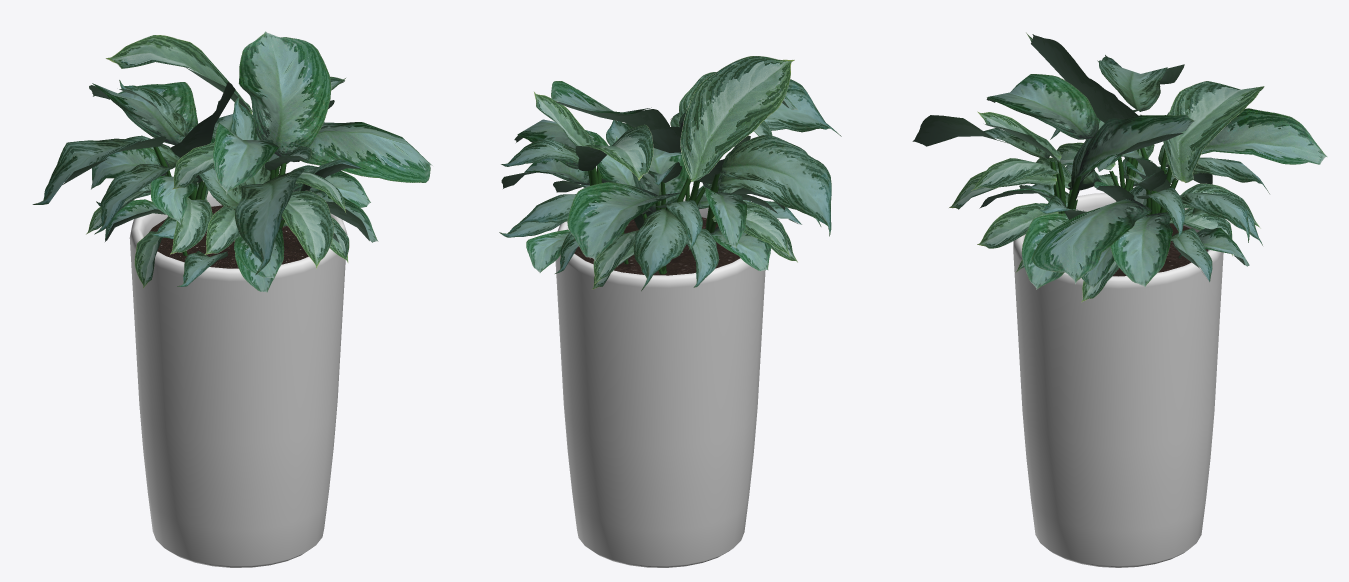
The picture shows the model from 3 angles, left to right: view 1: azimuth 30°, elevation 25°; view 2: azimuth 150°, elevation 25°; view 3: azimuth 270°, elevation 25°; orthographic projection. The views are drawn at different scales.
Parts seen in each view (by area): view 1: potTall_aglaonema; view 2: potTall_aglaonema; view 3: potTall_aglaonema.
Boxes of the visible parts, left/top/right/bottom form: potTall_aglaonema: left=32, top=31, right=432, bottom=567; potTall_aglaonema: left=499, top=56, right=841, bottom=567; potTall_aglaonema: left=912, top=32, right=1327, bottom=567.
Size of the model in its own units: 1.25 by 1.61 by 1.3.
Materials: 3 (2 with a texture image).
